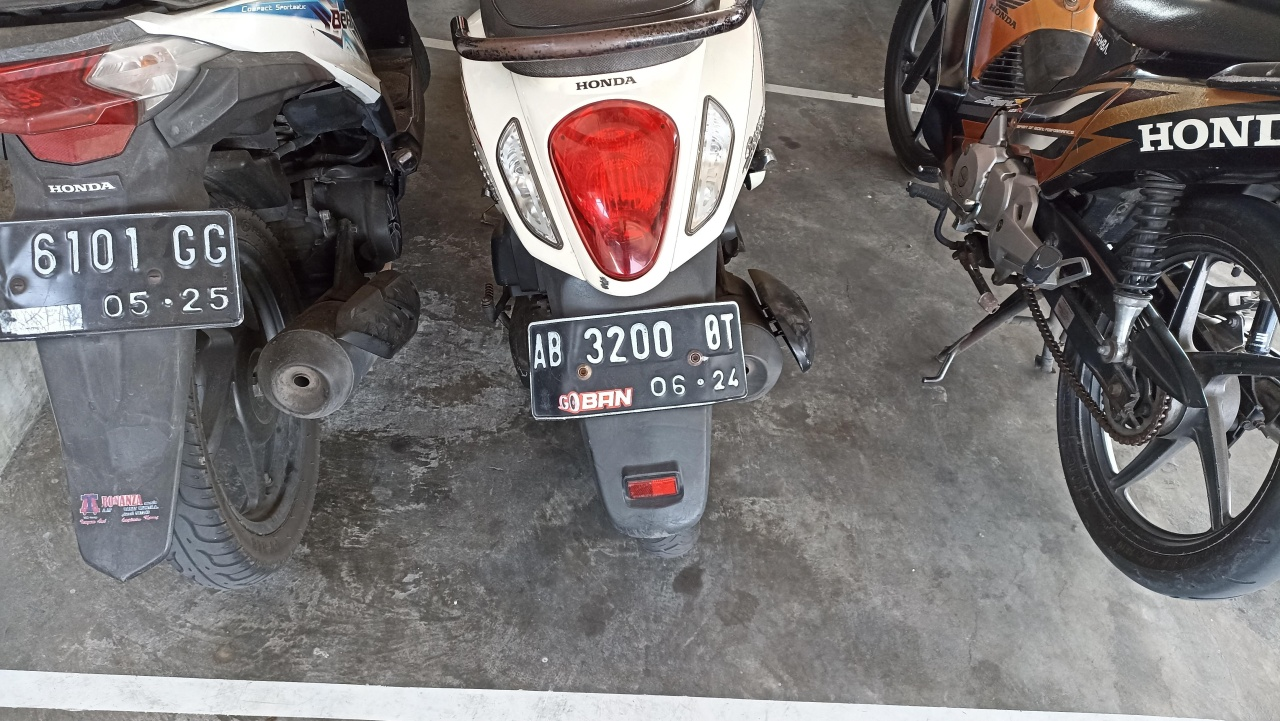plate: (0, 212, 242, 341), (529, 304, 748, 420)
